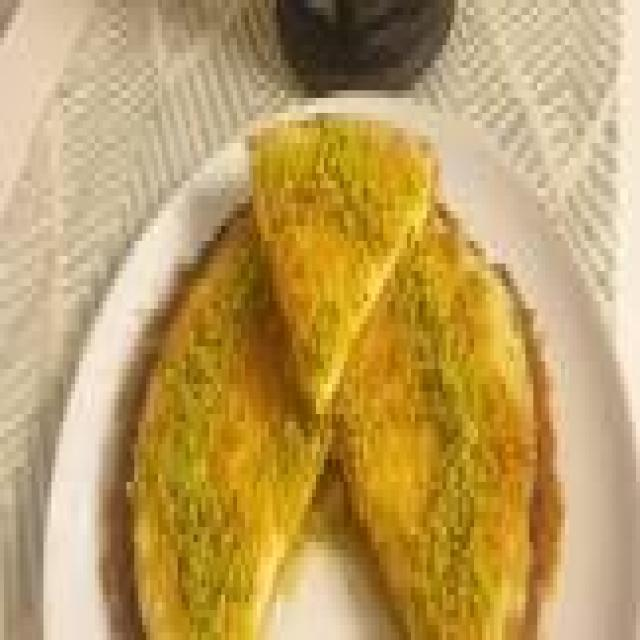konafa: (110, 95, 552, 640)
